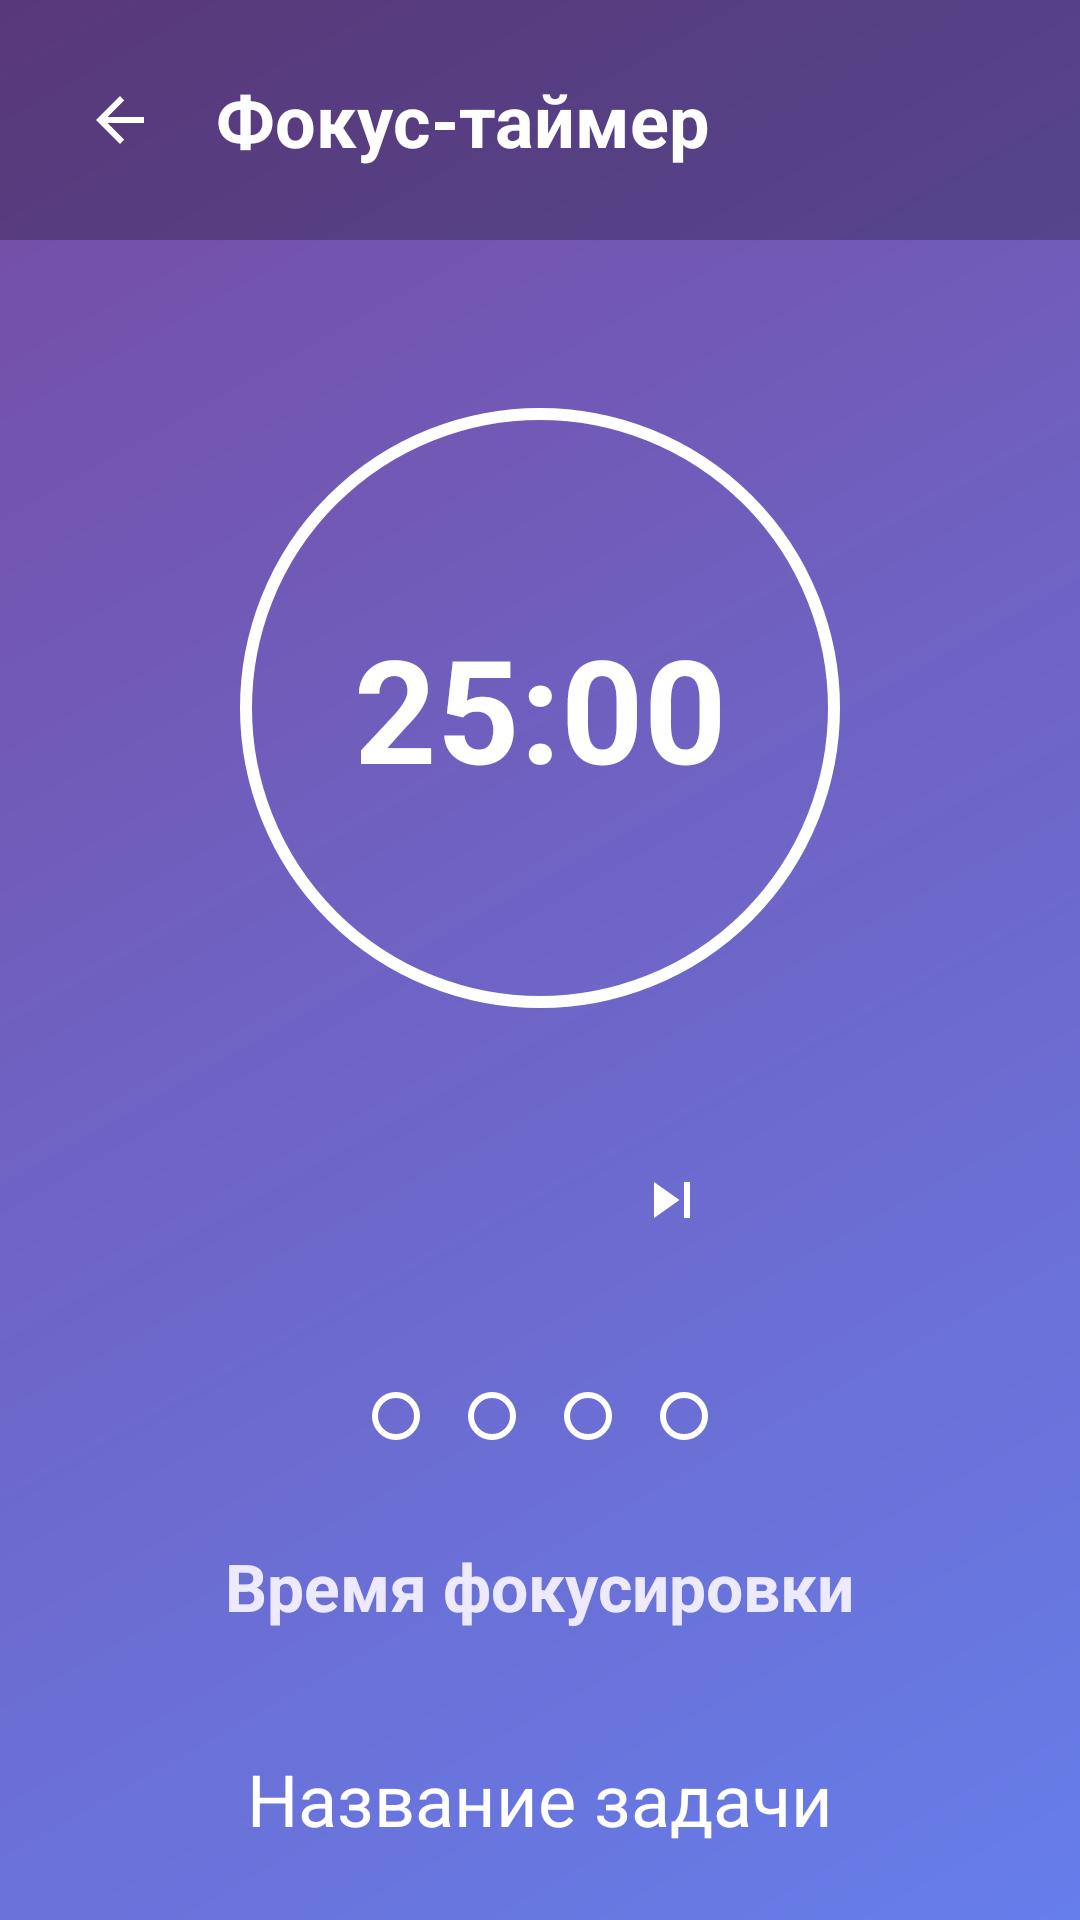

Named icons in this screenshot (1080x1920) and their bounding boxes, (x1, y1, x2, y2):
Skip: (654, 1182, 690, 1218)
Назад: (96, 96, 144, 144)
